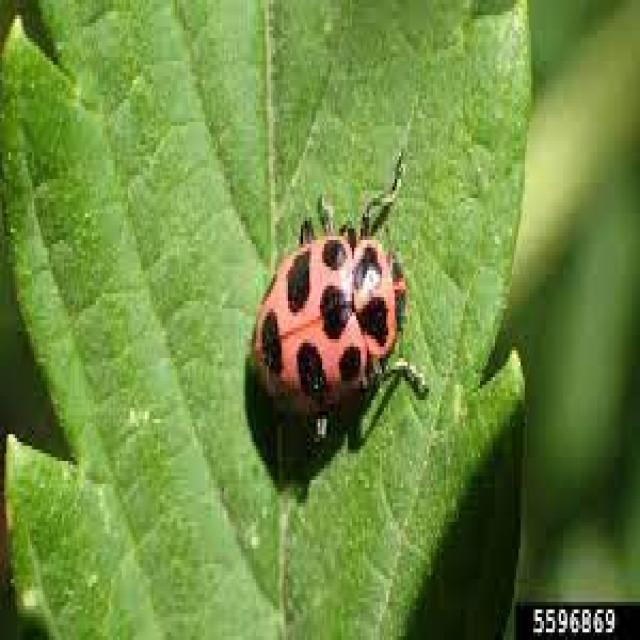bug: (248, 147, 434, 433)
